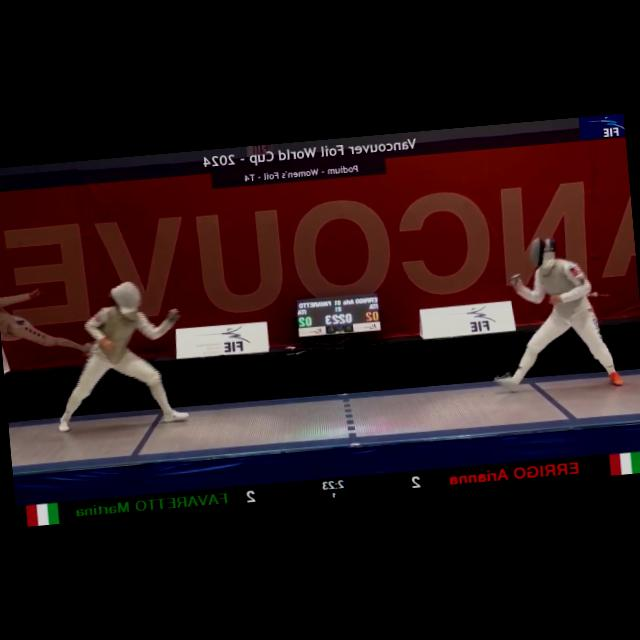blade: (481, 208, 520, 286)
